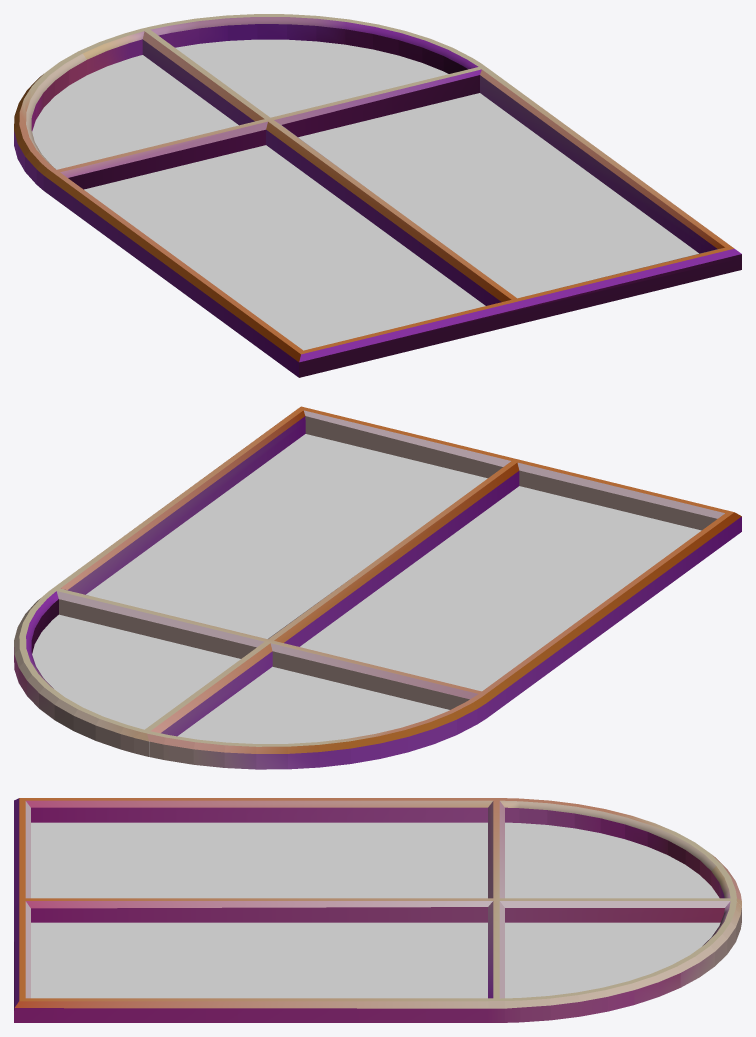
File: vc_frame_ornate_002.fbx
The picture shows the model from 3 angles, top to bottom: view 1: azimuth 30°, elevation 25°; view 2: azimuth 150°, elevation 25°; view 3: azimuth 270°, elevation 25°; orthographic projection. The views are drawn at different scales.
Visible parts, largest first — view 1: frame_ornate_glass, frame_ornate; view 2: frame_ornate_glass, frame_ornate; view 3: frame_ornate_glass, frame_ornate.
Part boxes in pixels (bbox=[...]): frame_ornate_glass: bbox=[32, 39, 698, 350]; frame_ornate: bbox=[14, 14, 741, 377]; frame_ornate_glass: bbox=[32, 434, 701, 743]; frame_ornate: bbox=[14, 406, 741, 769]; frame_ornate_glass: bbox=[31, 822, 720, 998]; frame_ornate: bbox=[14, 798, 741, 1022].
Size of the model in its own units: 70.41 by 3.1 by 104.
